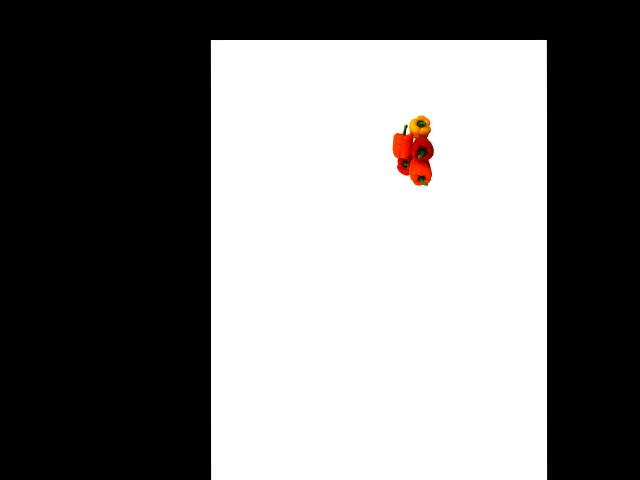bell_pepper: (406, 157, 434, 191)
